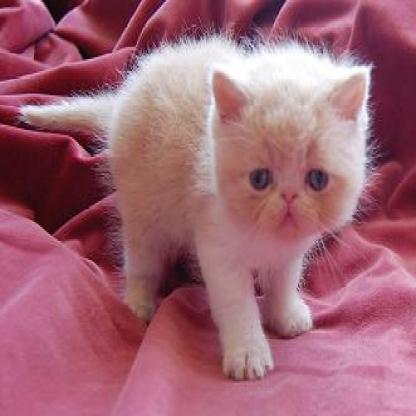cat: (19, 35, 371, 378)
